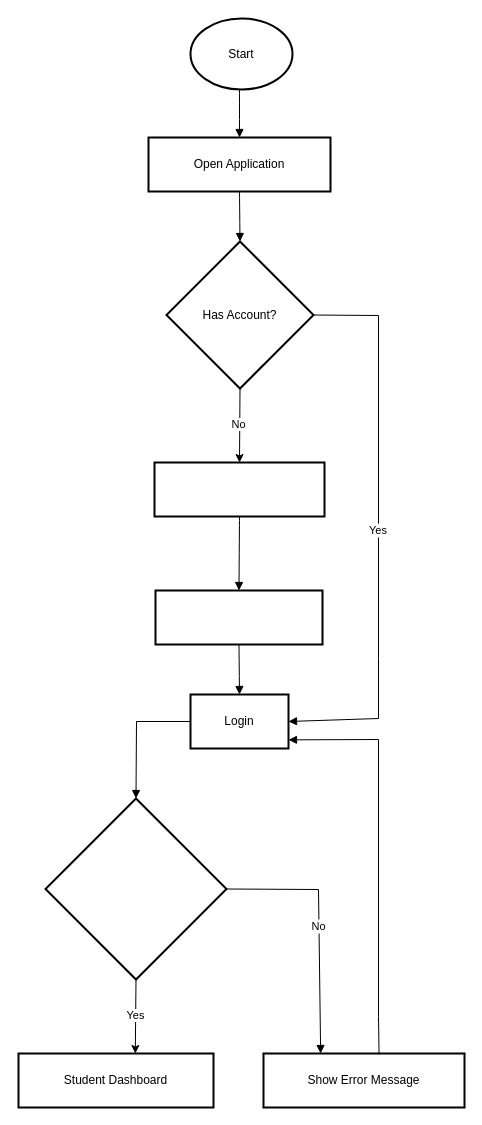
Image size: 482x1125. Some labels were removed from this diagram. Each missing label, with the box of its shape:
Create Account: (153, 461, 325, 517)
Credentials Valid?: (44, 797, 227, 980)
Save User Data: (154, 589, 323, 645)
